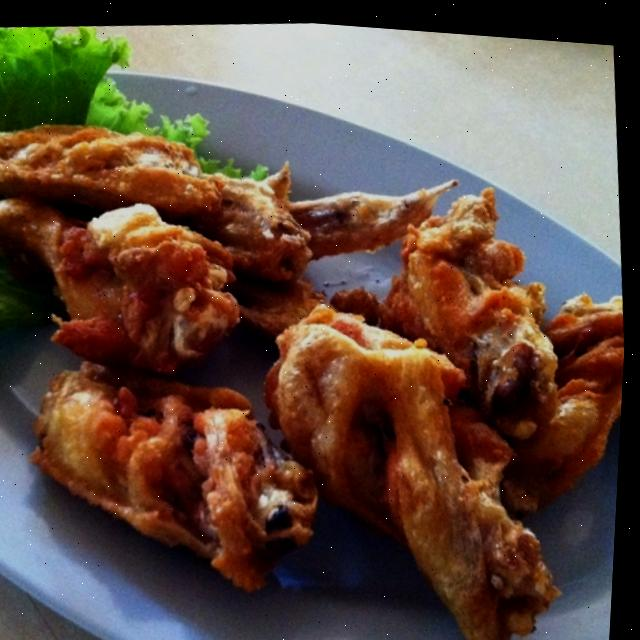鸡肉料理 含炸鸡: (0, 52, 638, 640)
